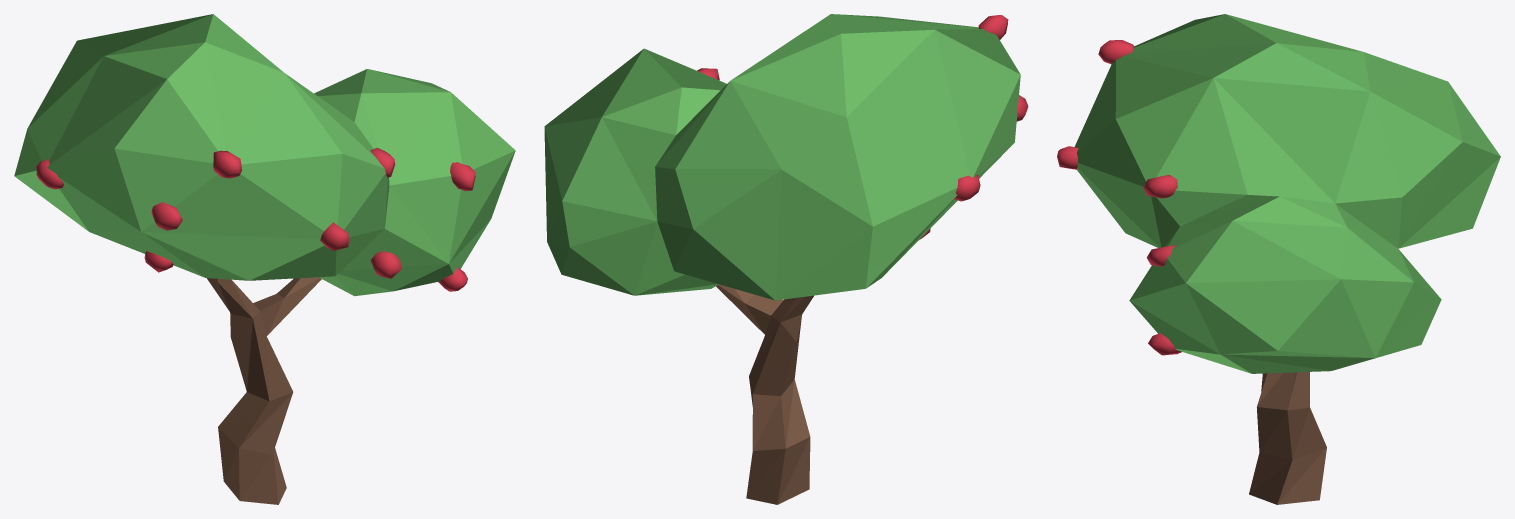
File: tree_3_1.FBX
The picture shows the model from 3 angles, left to right: view 1: azimuth 30°, elevation 25°; view 2: azimuth 150°, elevation 25°; view 3: azimuth 270°, elevation 25°; orthographic projection. The views are drawn at different scales.
Parts seen in each view (by area): view 1: drzewo_003; view 2: drzewo_003; view 3: drzewo_003.
Boxes of the visible parts, box(x1,y1,x2,y2) form: drzewo_003: box(14, 14, 515, 504); drzewo_003: box(544, 14, 1028, 504); drzewo_003: box(1057, 14, 1500, 504).
Size of the model in its own units: 53.37 by 56.85 by 53.77.
